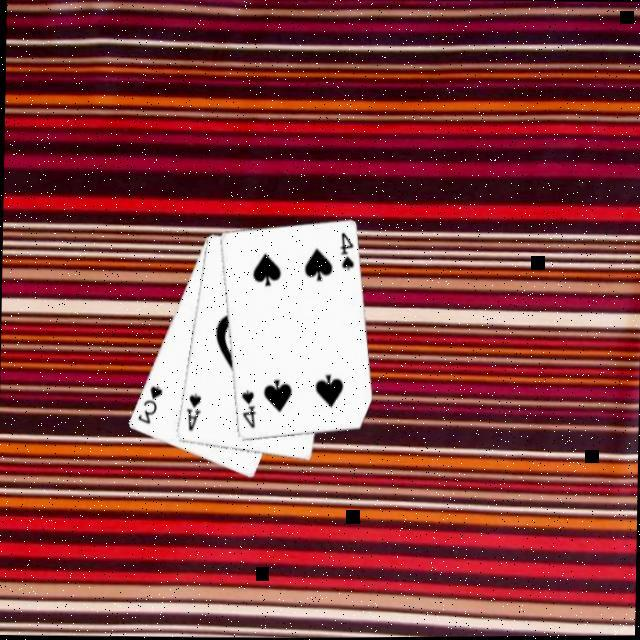3S: (132, 383, 163, 428)
4S: (235, 388, 256, 432), (334, 230, 354, 274)
AS: (180, 392, 202, 436)
